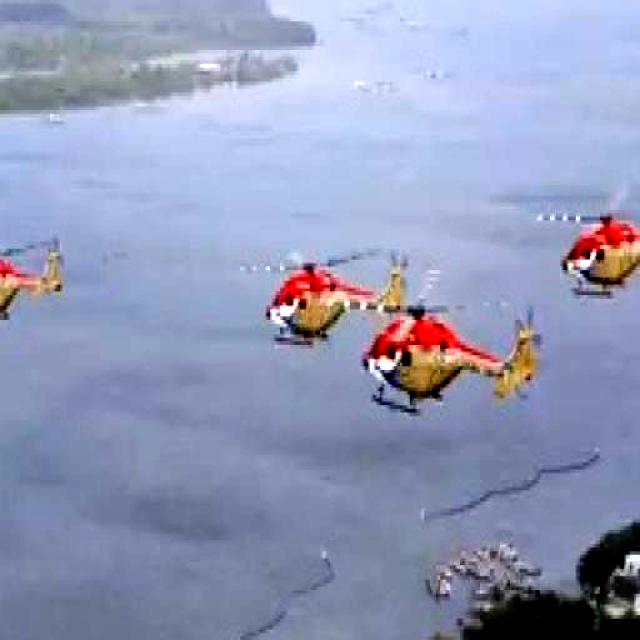drone: (364, 278, 564, 434), (532, 134, 640, 291), (260, 248, 405, 346), (0, 229, 72, 348)
